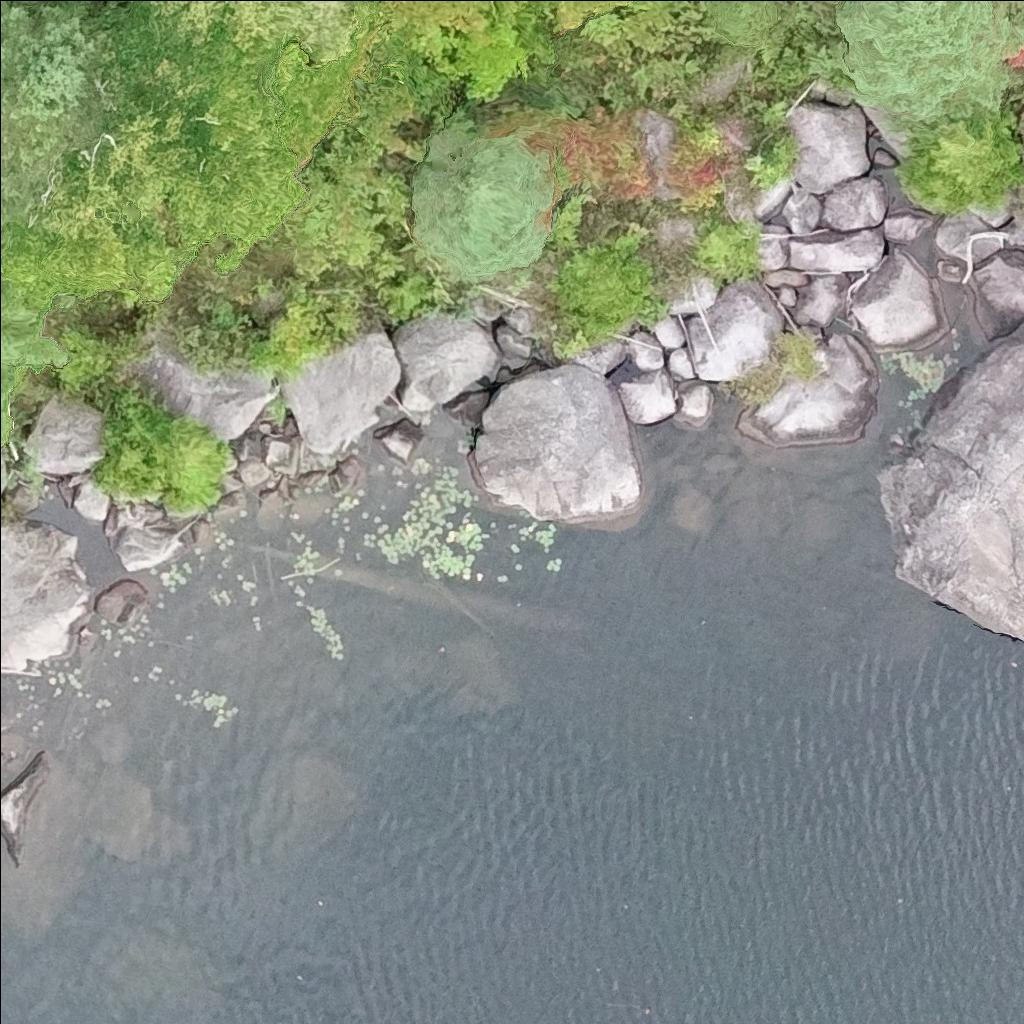crown: (45, 4, 301, 299), (0, 0, 108, 228), (836, 0, 1023, 131), (411, 121, 554, 276), (479, 104, 659, 206), (545, 230, 667, 358), (155, 0, 370, 66), (896, 111, 1023, 213), (0, 270, 68, 452), (251, 290, 358, 377), (148, 417, 229, 516), (665, 120, 740, 209), (92, 413, 161, 497), (120, 389, 175, 452), (706, 0, 779, 47), (211, 296, 249, 333), (0, 225, 11, 261)
